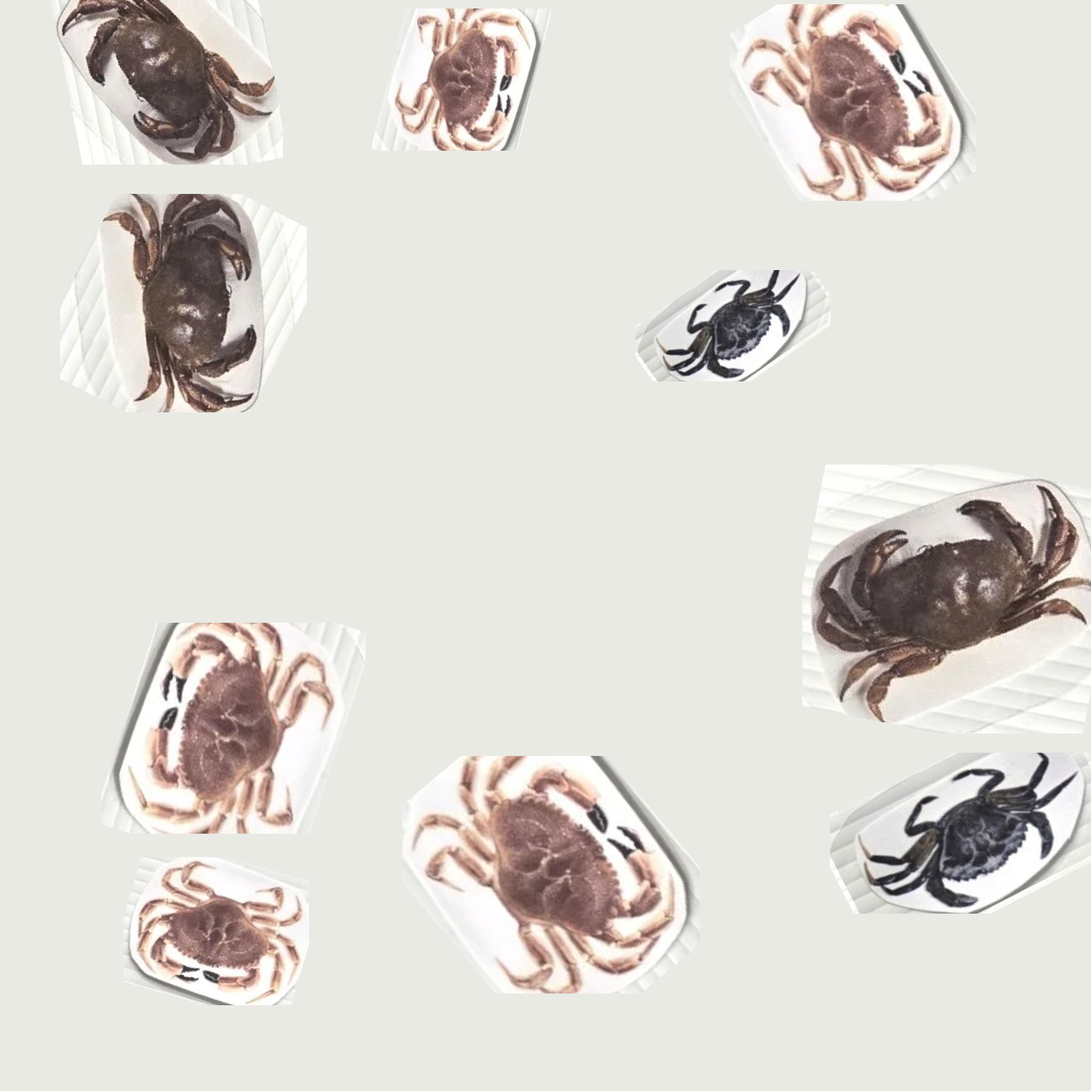evil: (819, 748, 1091, 908), (624, 245, 848, 381)
normal: (803, 455, 1091, 729), (412, 760, 701, 993), (105, 607, 360, 845), (84, 202, 336, 419), (719, 3, 976, 205), (55, 5, 295, 164), (114, 858, 315, 1005), (376, 7, 560, 157)
